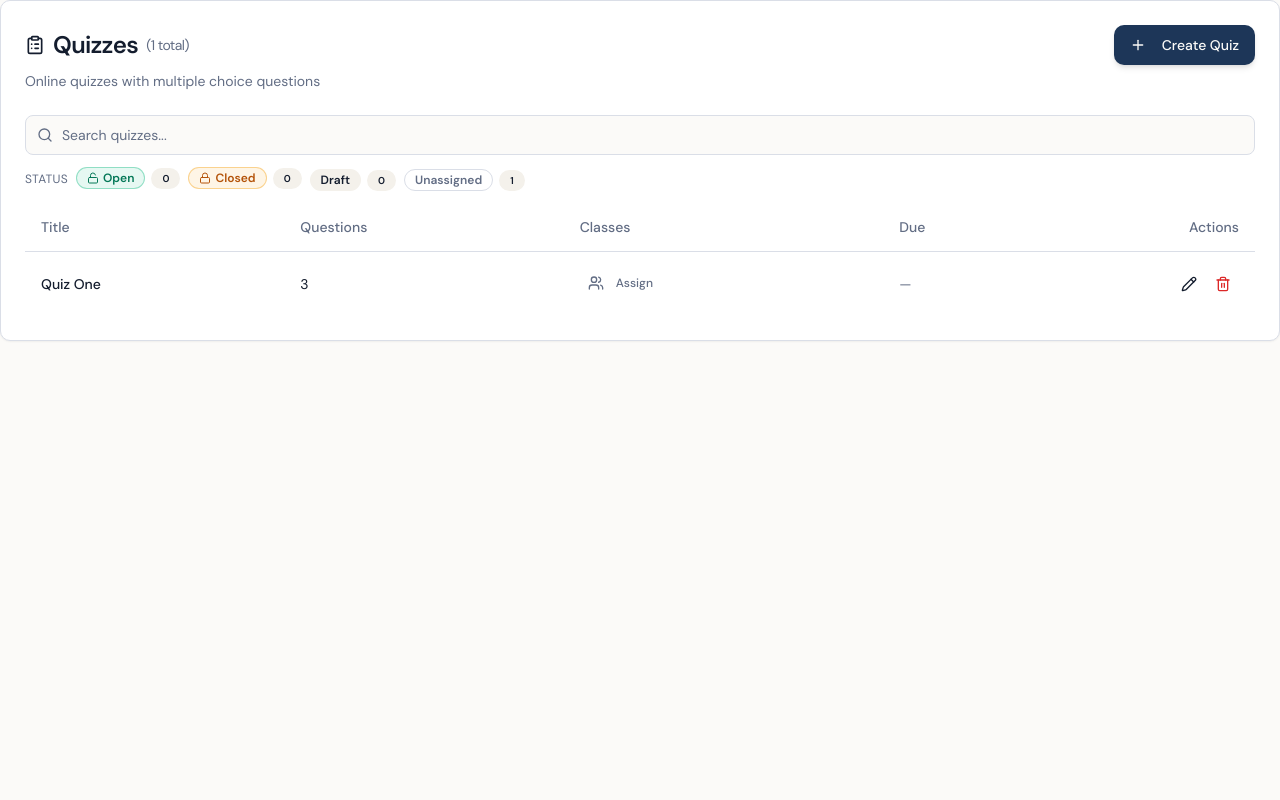
QuizManager › assigns whole class + a group in one save, with a per-section due date
Later steps or results of the test are not shown.
Expected: the text "Quiz One" is shown, top-left (25, 251), bottom-right (284, 316)
Note: Open the shared assign dialog from the ghost Assign affordance.
Click the button with test id "quiz-needs-assign-quiz-1".
click(620, 283)  # box top-left (580, 271), bottom-right (661, 295)
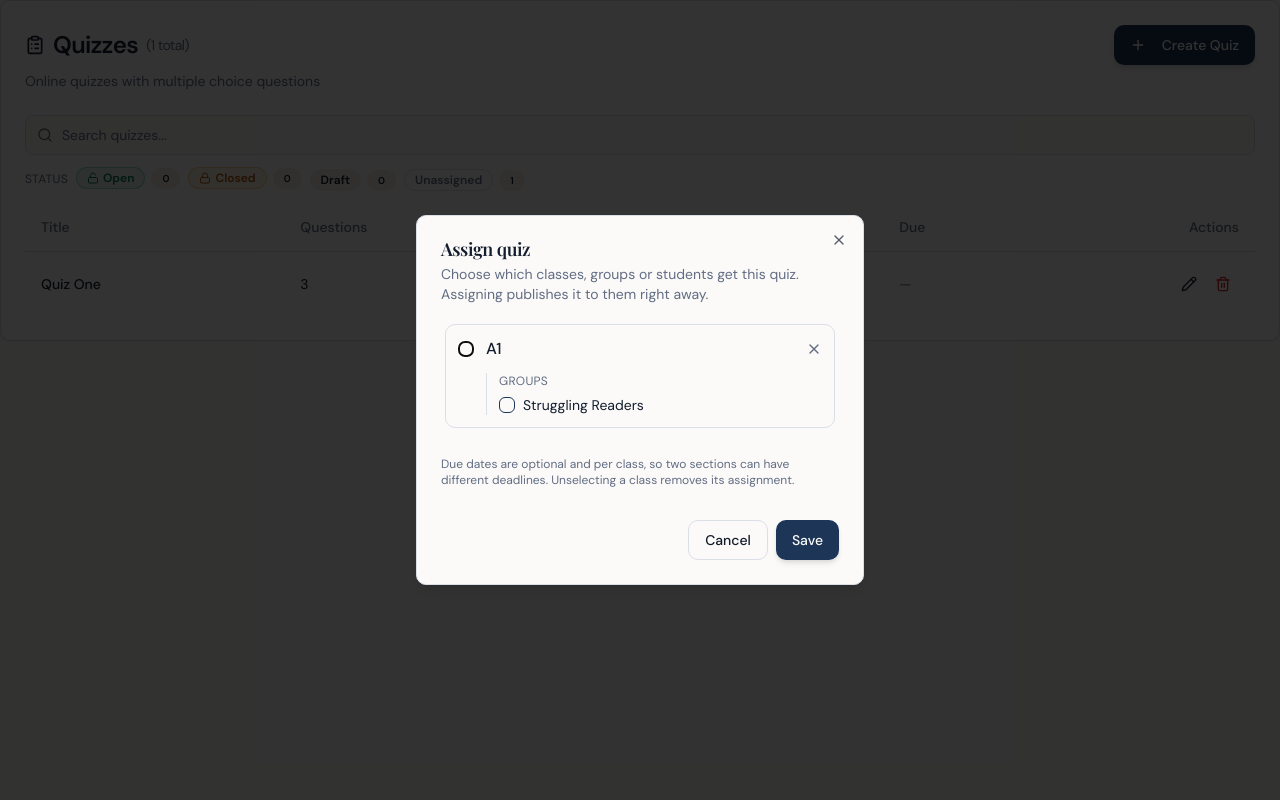
Expected: the heading "Assign quiz" is shown, top-left (441, 237), bottom-right (530, 261)
